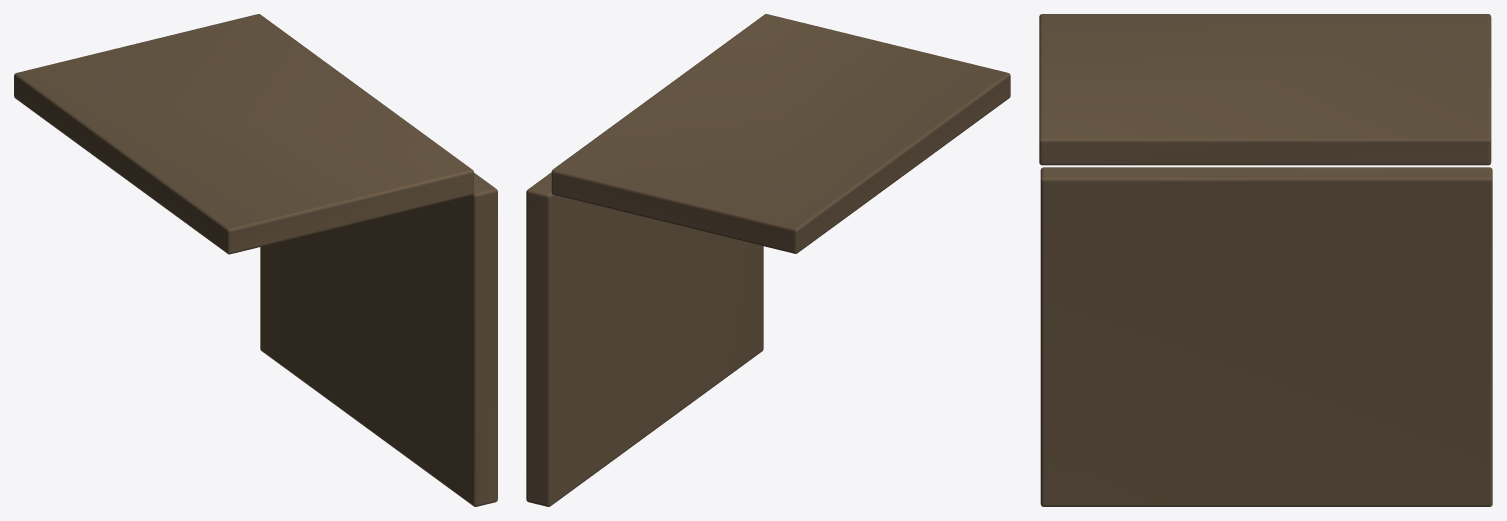
The model's file is temple07_lod1.glb.
3 renders of one model, left to right at view 1: azimuth 30°, elevation 25°; view 2: azimuth 150°, elevation 25°; view 3: azimuth 270°, elevation 25°, orthographic. The views are drawn at different scales.
Visible parts, largest first — view 1: TEMPLE07_original_v5.001; view 2: TEMPLE07_original_v5.001; view 3: TEMPLE07_original_v5.001.
Part boxes in pixels (x1,y1,x2,y2): TEMPLE07_original_v5.001: [14, 14, 497, 506]; TEMPLE07_original_v5.001: [526, 14, 1010, 506]; TEMPLE07_original_v5.001: [1039, 14, 1492, 506].
Size of the model in its own units: 2.22 by 2.65 by 3.06.
